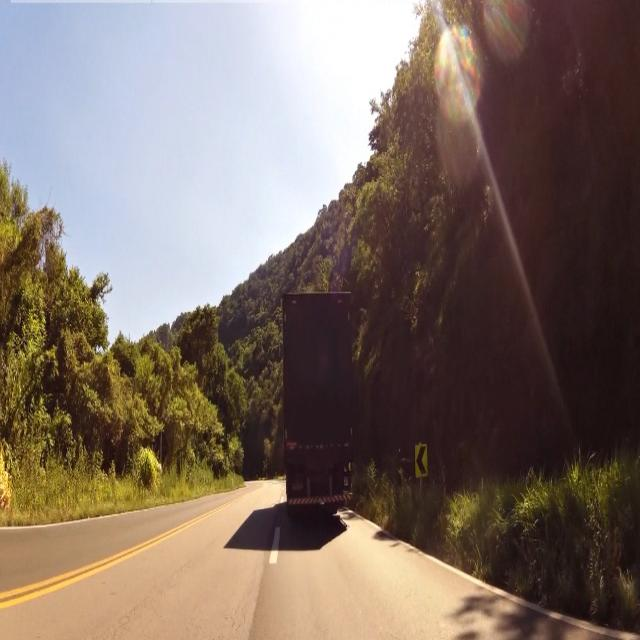Del: (413, 443, 428, 478)
